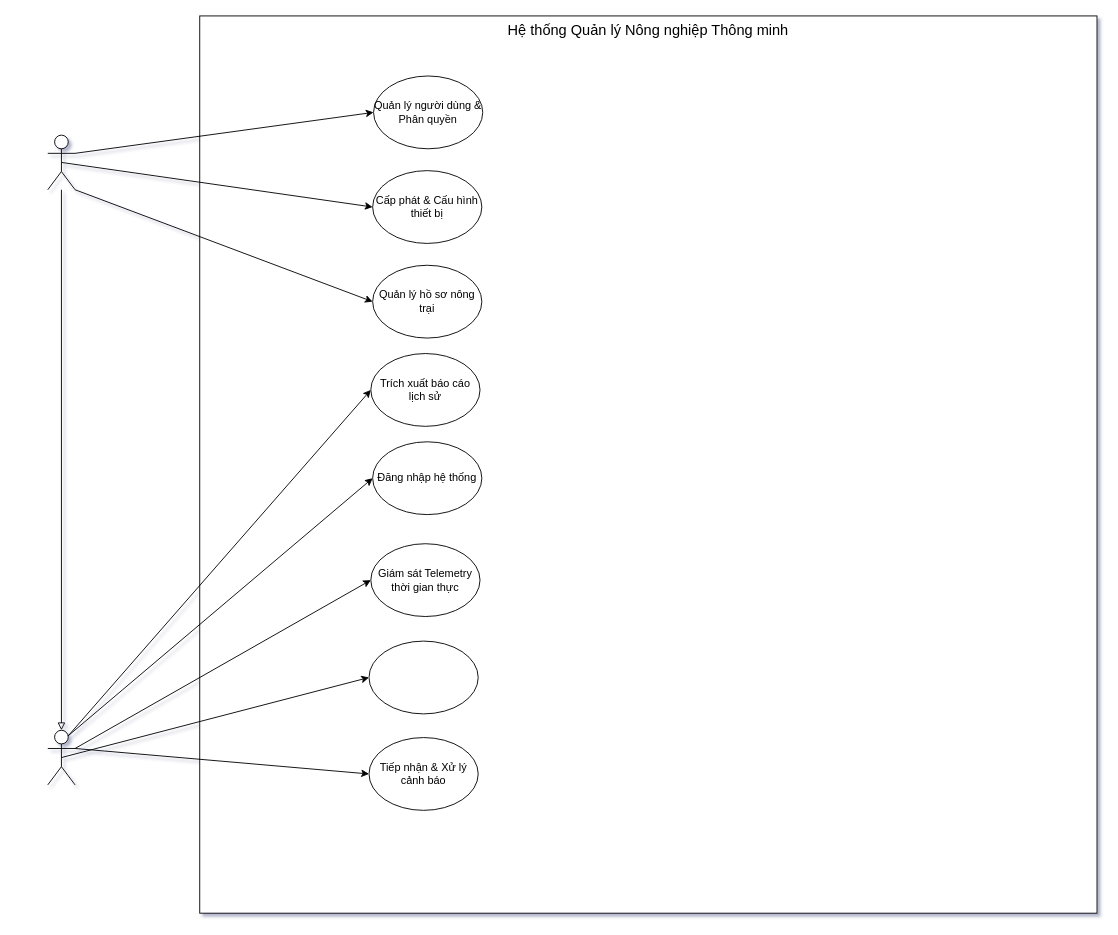
This 1118x935 diagram has some shape labels left out. Each missing label, with the centre of its shape:
"Người vận hành" belongs at point 61,757.
"Quản trị viên" belongs at point 61,162.
"Xác thực trực quan (Camera)" belongs at point 423,677.
